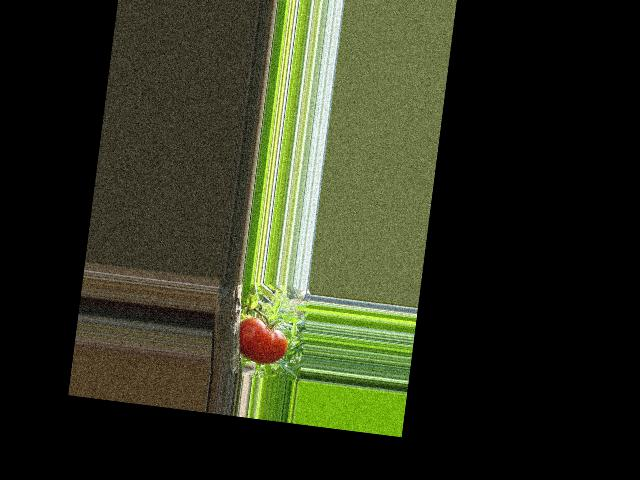tomato: (235, 315, 290, 366)
